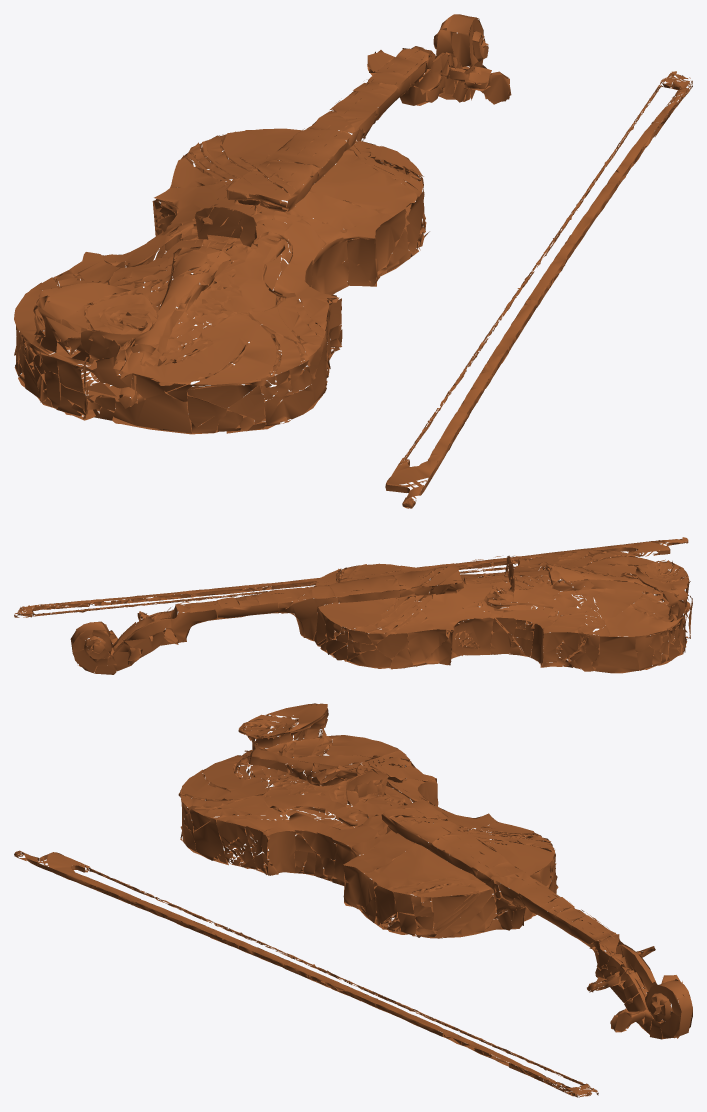
The model's file is ergoflex-violin.glb.
3 views of the same model, one above another, from view 1: azimuth 30°, elevation 25°; view 2: azimuth 150°, elevation 25°; view 3: azimuth 270°, elevation 25° (orthographic). The views are drawn at different scales.
Visible parts, largest first — view 1: Supplied violin part 0; view 2: Supplied violin part 0; view 3: Supplied violin part 0.
Part boxes in pixels (x1,y1,x2,y2): Supplied violin part 0: [14, 14, 692, 508]; Supplied violin part 0: [14, 537, 692, 674]; Supplied violin part 0: [14, 703, 692, 1097].
Bounding box in the file's own units: 0.59 × 0.0897 × 0.5361.
